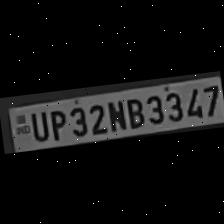2: (86, 100, 108, 134)
3: (65, 102, 88, 137), (142, 90, 164, 126), (161, 87, 182, 122)
4: (180, 84, 202, 119)
7: (198, 80, 220, 118)
B: (122, 94, 144, 130)
N: (102, 96, 125, 131)
P: (45, 105, 67, 141)
U: (26, 108, 48, 142)
